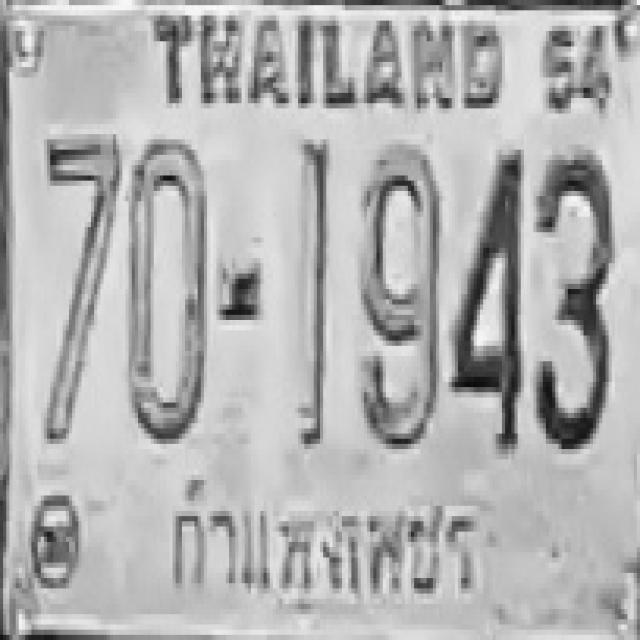0: (126, 134, 207, 444)
1: (295, 142, 329, 446), (298, 142, 329, 446), (302, 137, 330, 446)
3: (533, 150, 615, 449)
4: (449, 145, 524, 449)
7: (39, 132, 121, 441)
9: (359, 145, 441, 449)
KamphaengPhet: (160, 472, 480, 599)
